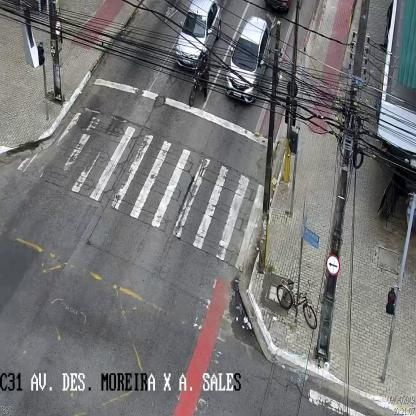bicycle: (276, 278, 317, 330)
car: (225, 15, 270, 103), (175, 1, 221, 71)
motorbike: (188, 46, 210, 107)
